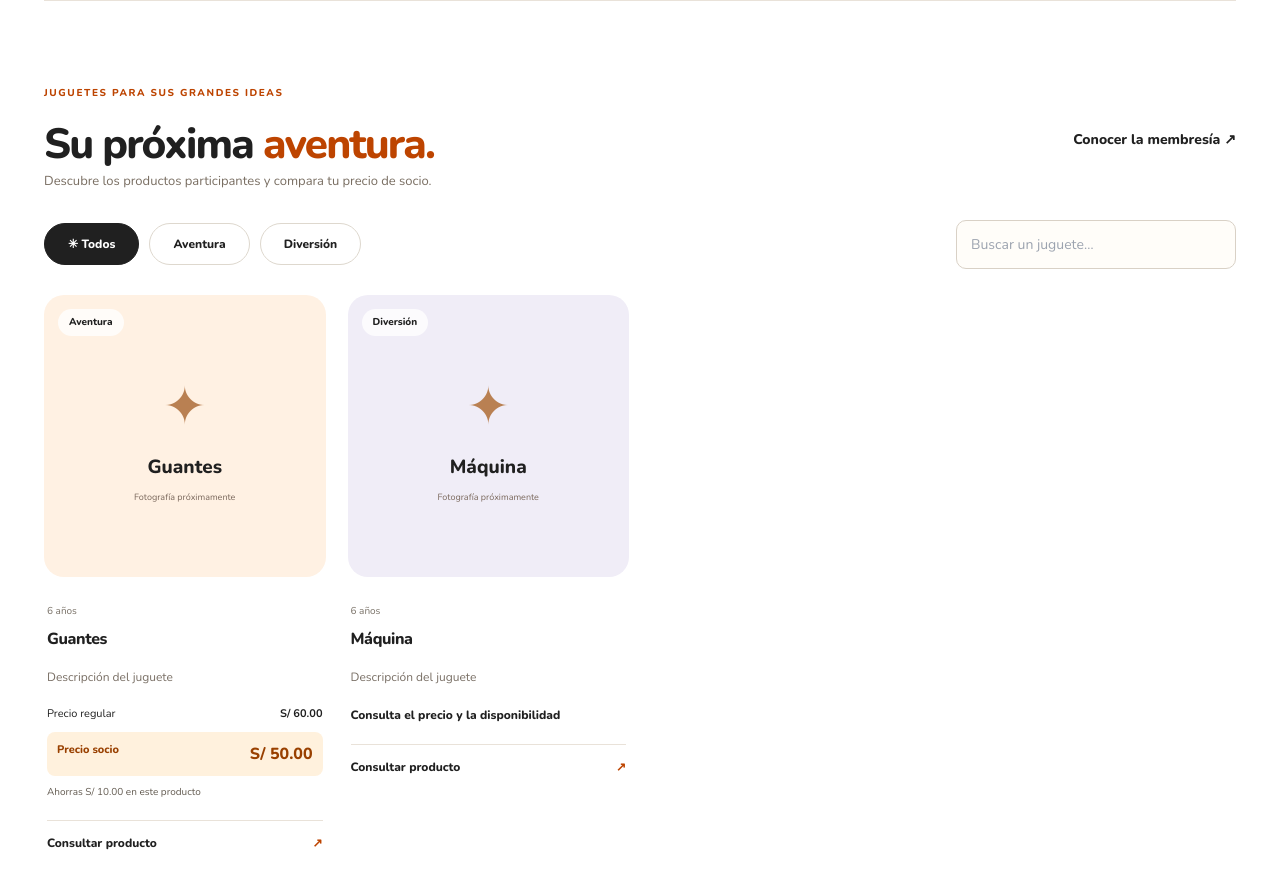
Scenario: Catalog › shows an empty state for unknown searches
This screenshot has width=1280, height=888.
Type "inexistente" into the search field at {"x": 1096, "y": 244}, box [956,220,1236,269]
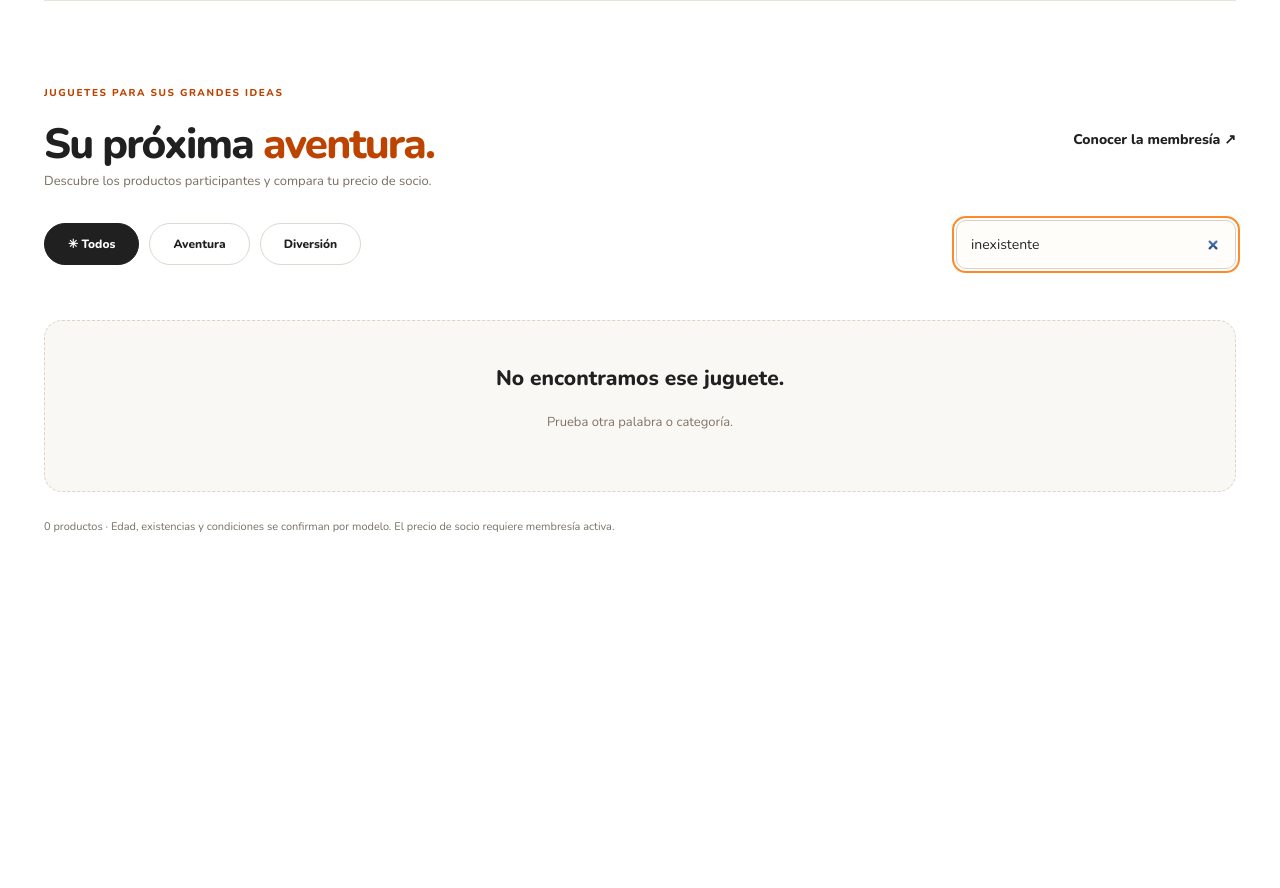
Now the heading "No encontramos ese juguete." is shown, box [496,364,784,392]
